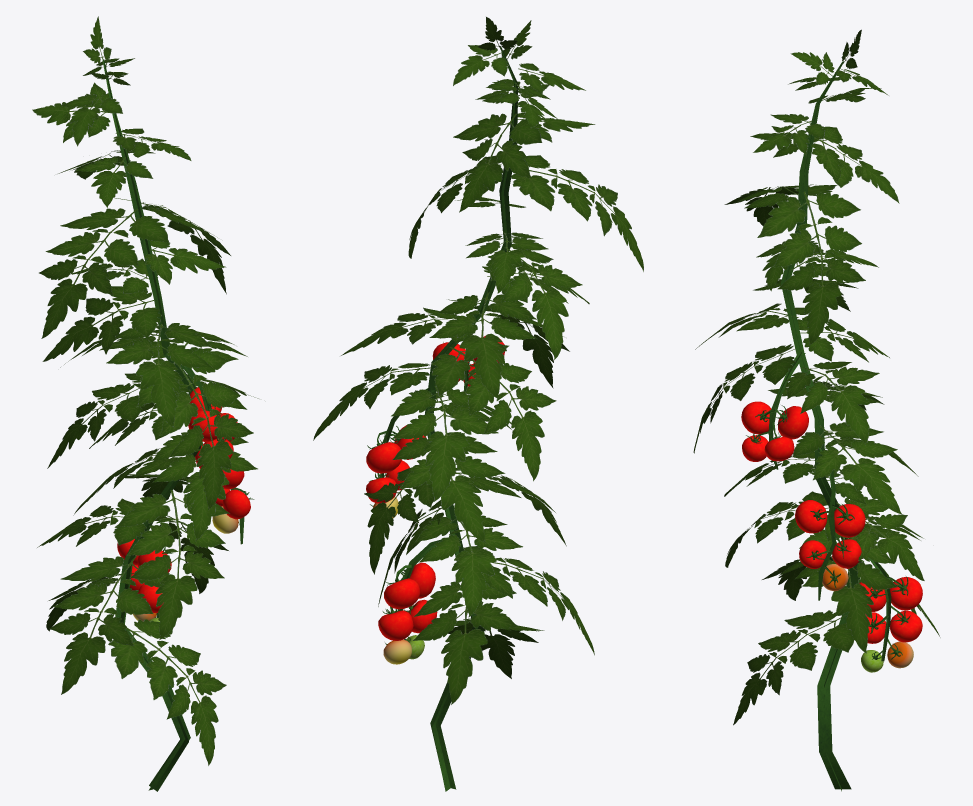
Rendered from tomato_2.fbx.
The picture shows the model from 3 angles, left to right: view 1: azimuth 30°, elevation 25°; view 2: azimuth 150°, elevation 25°; view 3: azimuth 270°, elevation 25°; orthographic projection. The views are drawn at different scales.
Parts seen in each view (by area): view 1: tomato_2; view 2: tomato_2; view 3: tomato_2.
Part boxes in pixels (box(x1,y1,x2,y2)): tomato_2: box(32, 16, 258, 791); tomato_2: box(313, 17, 643, 791); tomato_2: box(693, 29, 940, 791).
Bounding box in the file's own units: 0.7433 × 1.94 × 0.6633.
